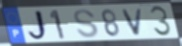1: (49, 9, 67, 41)
3: (149, 4, 173, 38)
8: (101, 8, 121, 38)
J: (27, 9, 51, 42)
S: (72, 8, 100, 39)
V: (121, 7, 145, 37)
